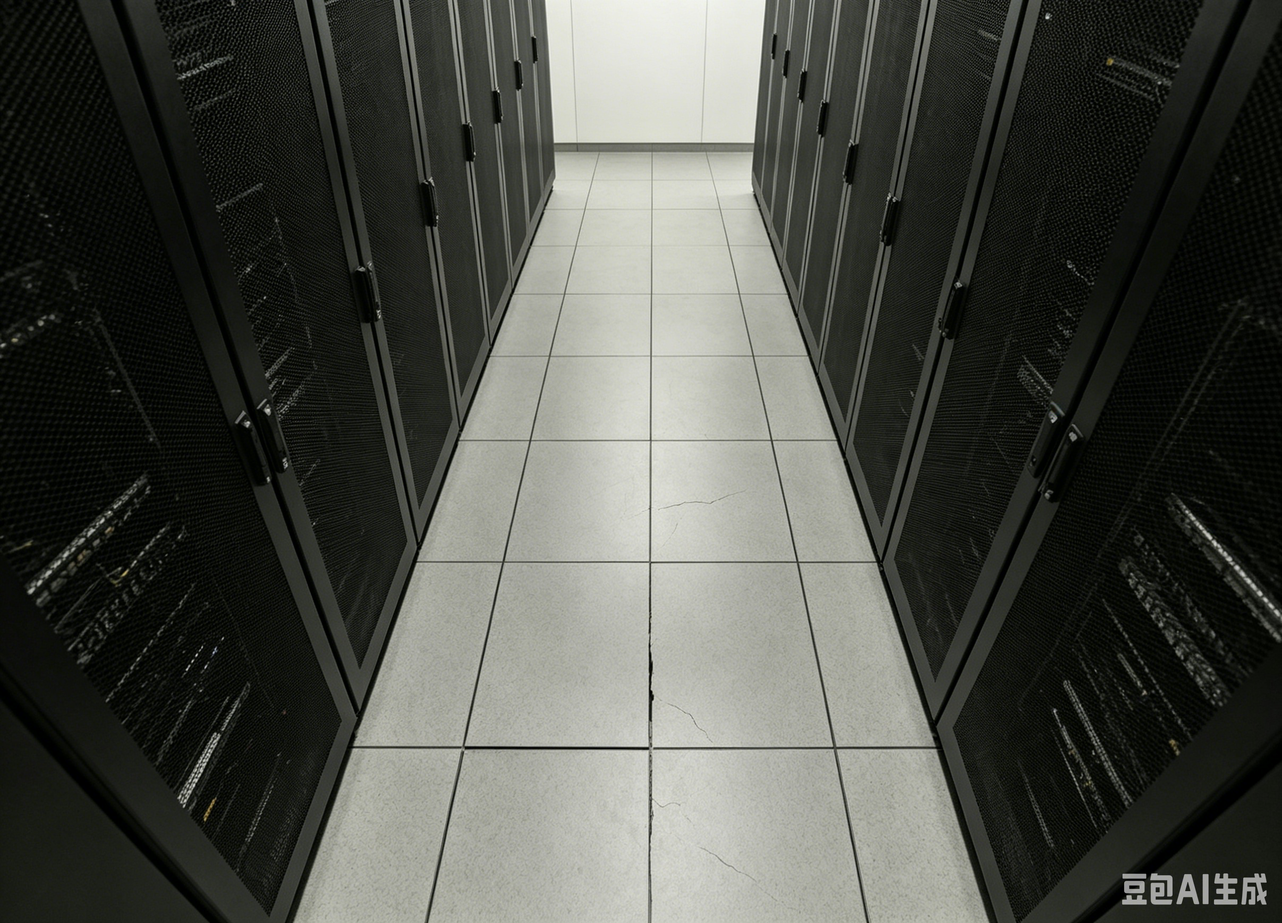floor_defect: (649, 794, 771, 890), (659, 482, 772, 525), (649, 694, 724, 749)
